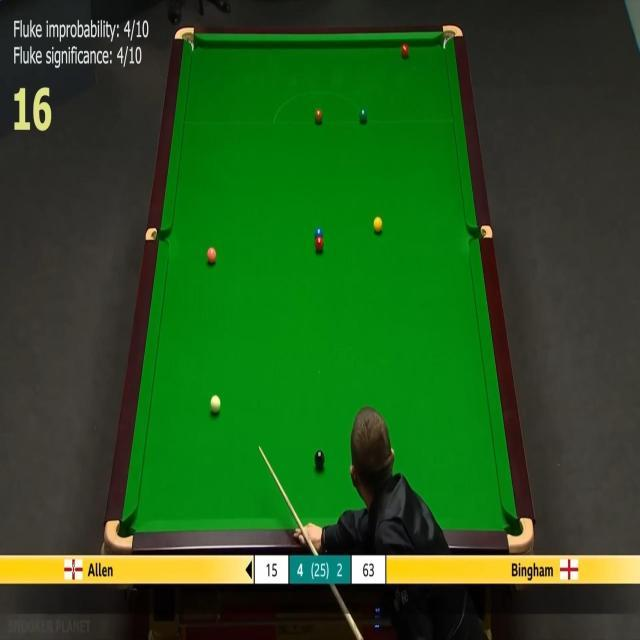Ball: (210, 394, 222, 414), (314, 450, 325, 468), (401, 42, 411, 61), (373, 216, 383, 233), (208, 246, 216, 264), (315, 236, 324, 250), (315, 227, 323, 241), (314, 109, 322, 122), (360, 110, 368, 122)
